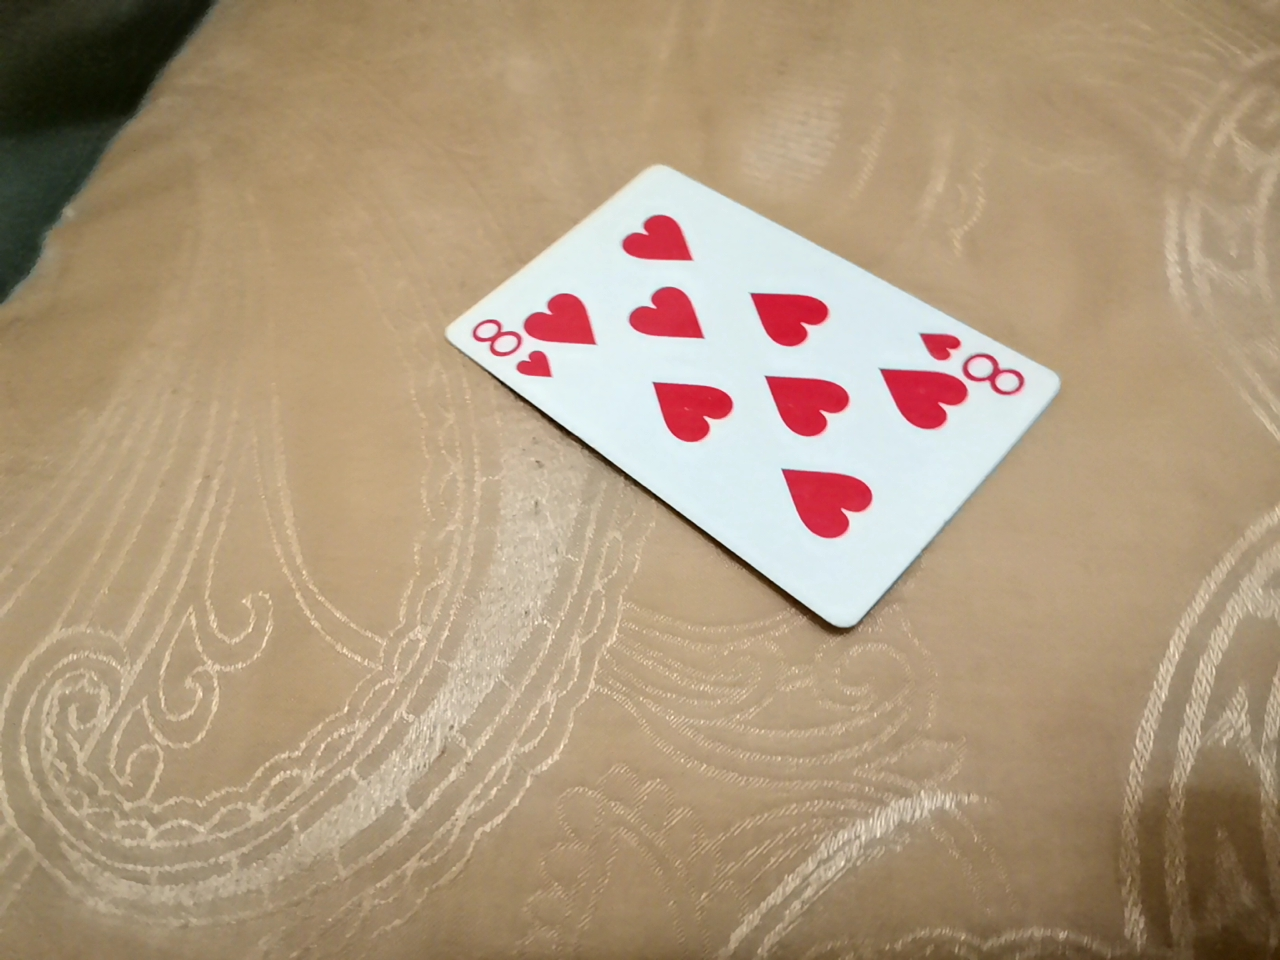hx 8: (447, 155, 1072, 614)
